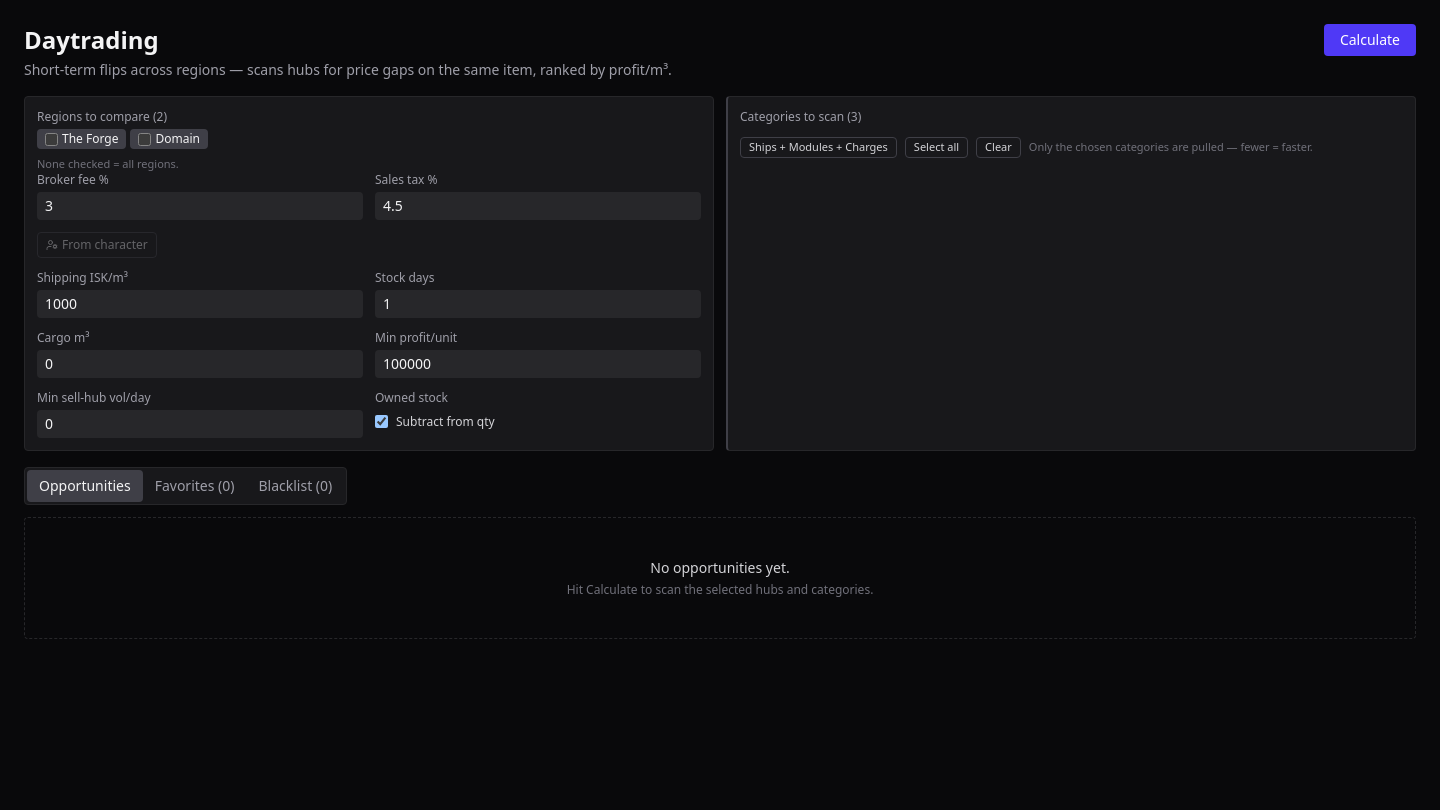
DaytradingPage › shows the scan failure message
Click the button "Calculate" at point(1370, 40), box [1324,24,1416,56]
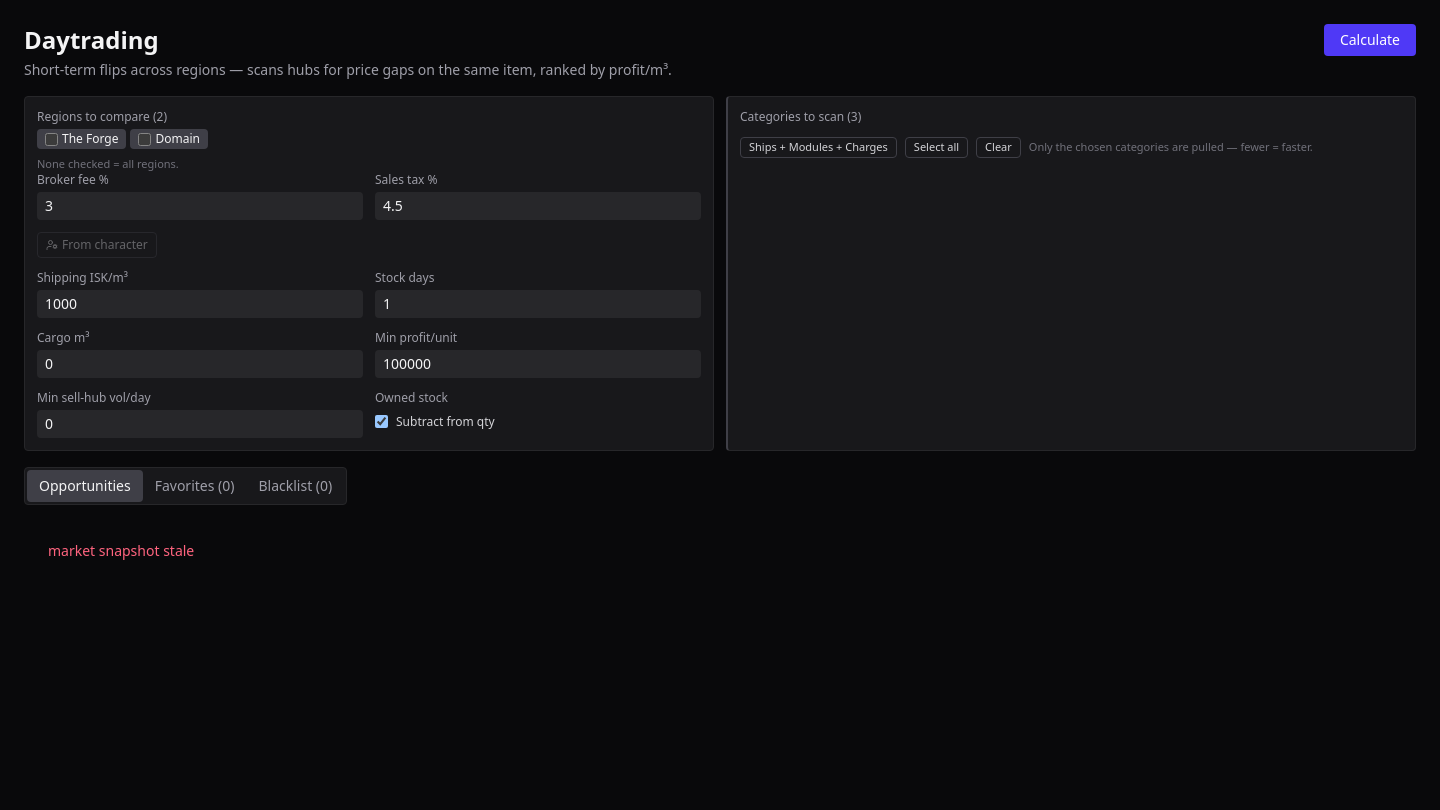
expect the text "market snapshot stale" is shown: met, box [48,541,194,560]
